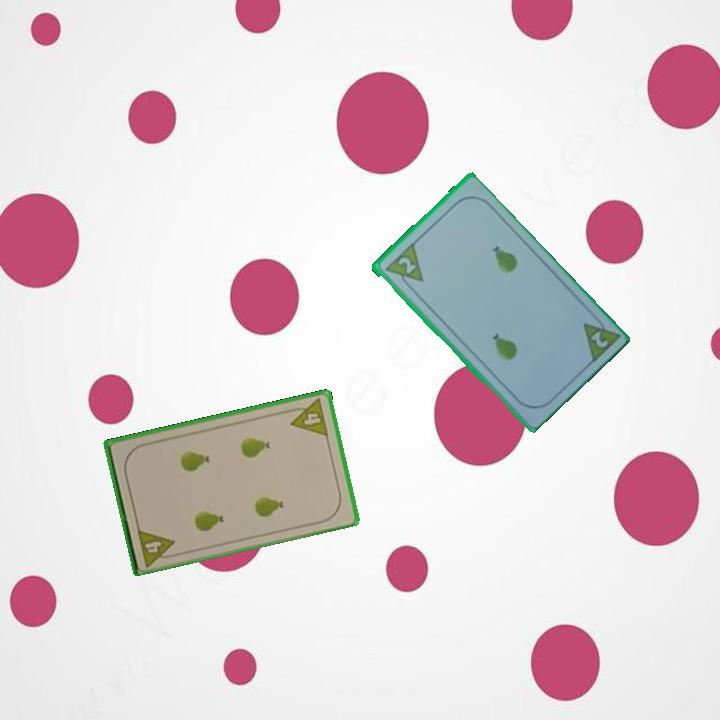2p: (381, 240, 426, 294), (579, 309, 621, 366)
4p: (284, 395, 331, 439), (134, 524, 179, 568)
